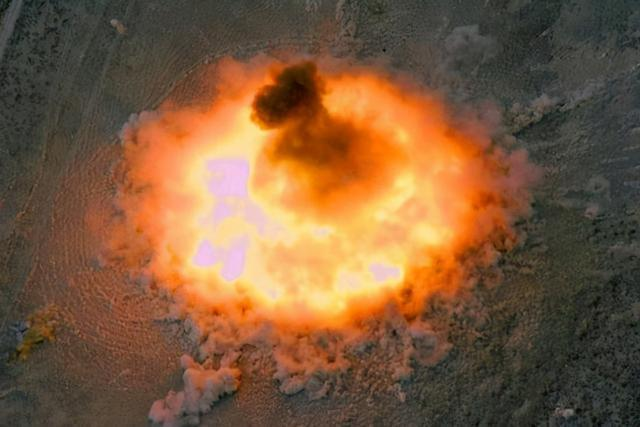fire: (117, 45, 536, 366)
